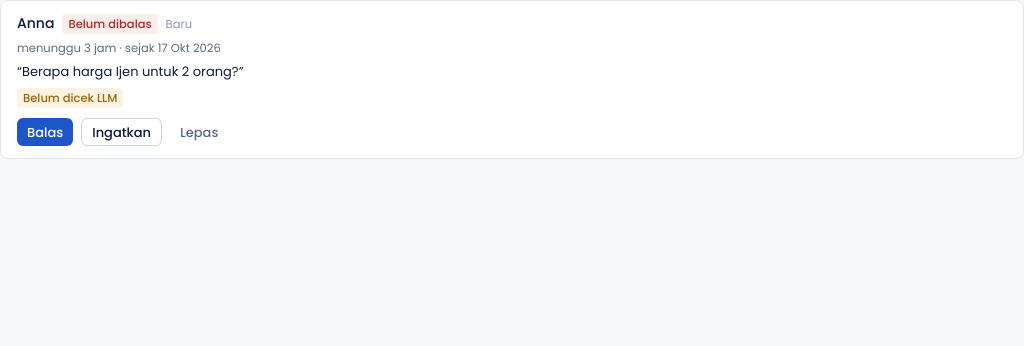
Test: SummaryQueue › catatan awal "Follow up {nama}" bila review tidak punya langkah berikut
Click the button "Ingatkan".
click(122, 132)  # box [81,118,162,146]
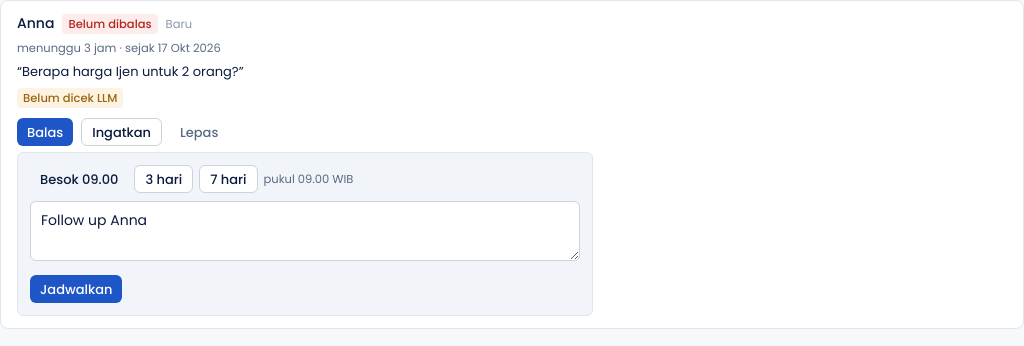
Expected: the text box named "Catatan pengingat" holds "Follow up Anna", [30,201,580,261]
